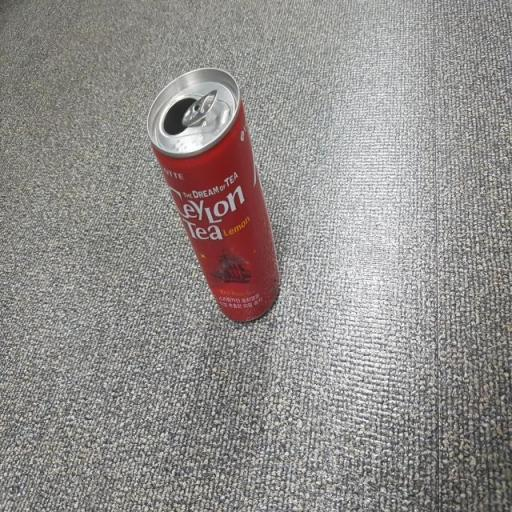metal: (137, 56, 283, 356)
